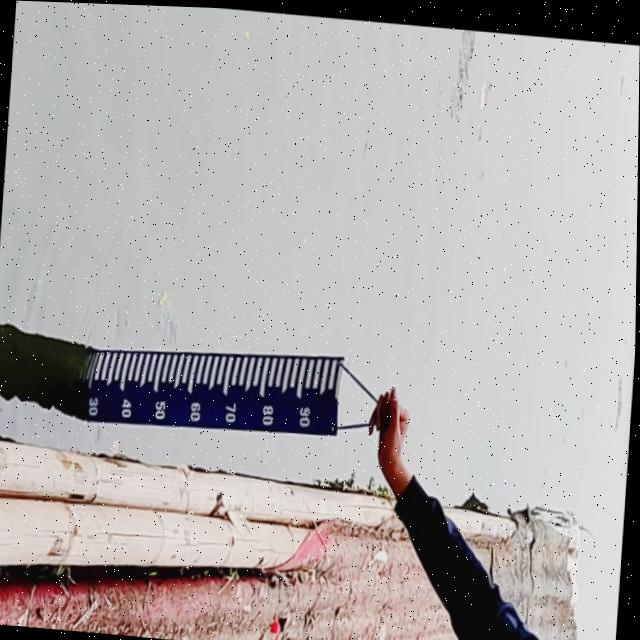water-meter: (60, 318, 351, 462)
